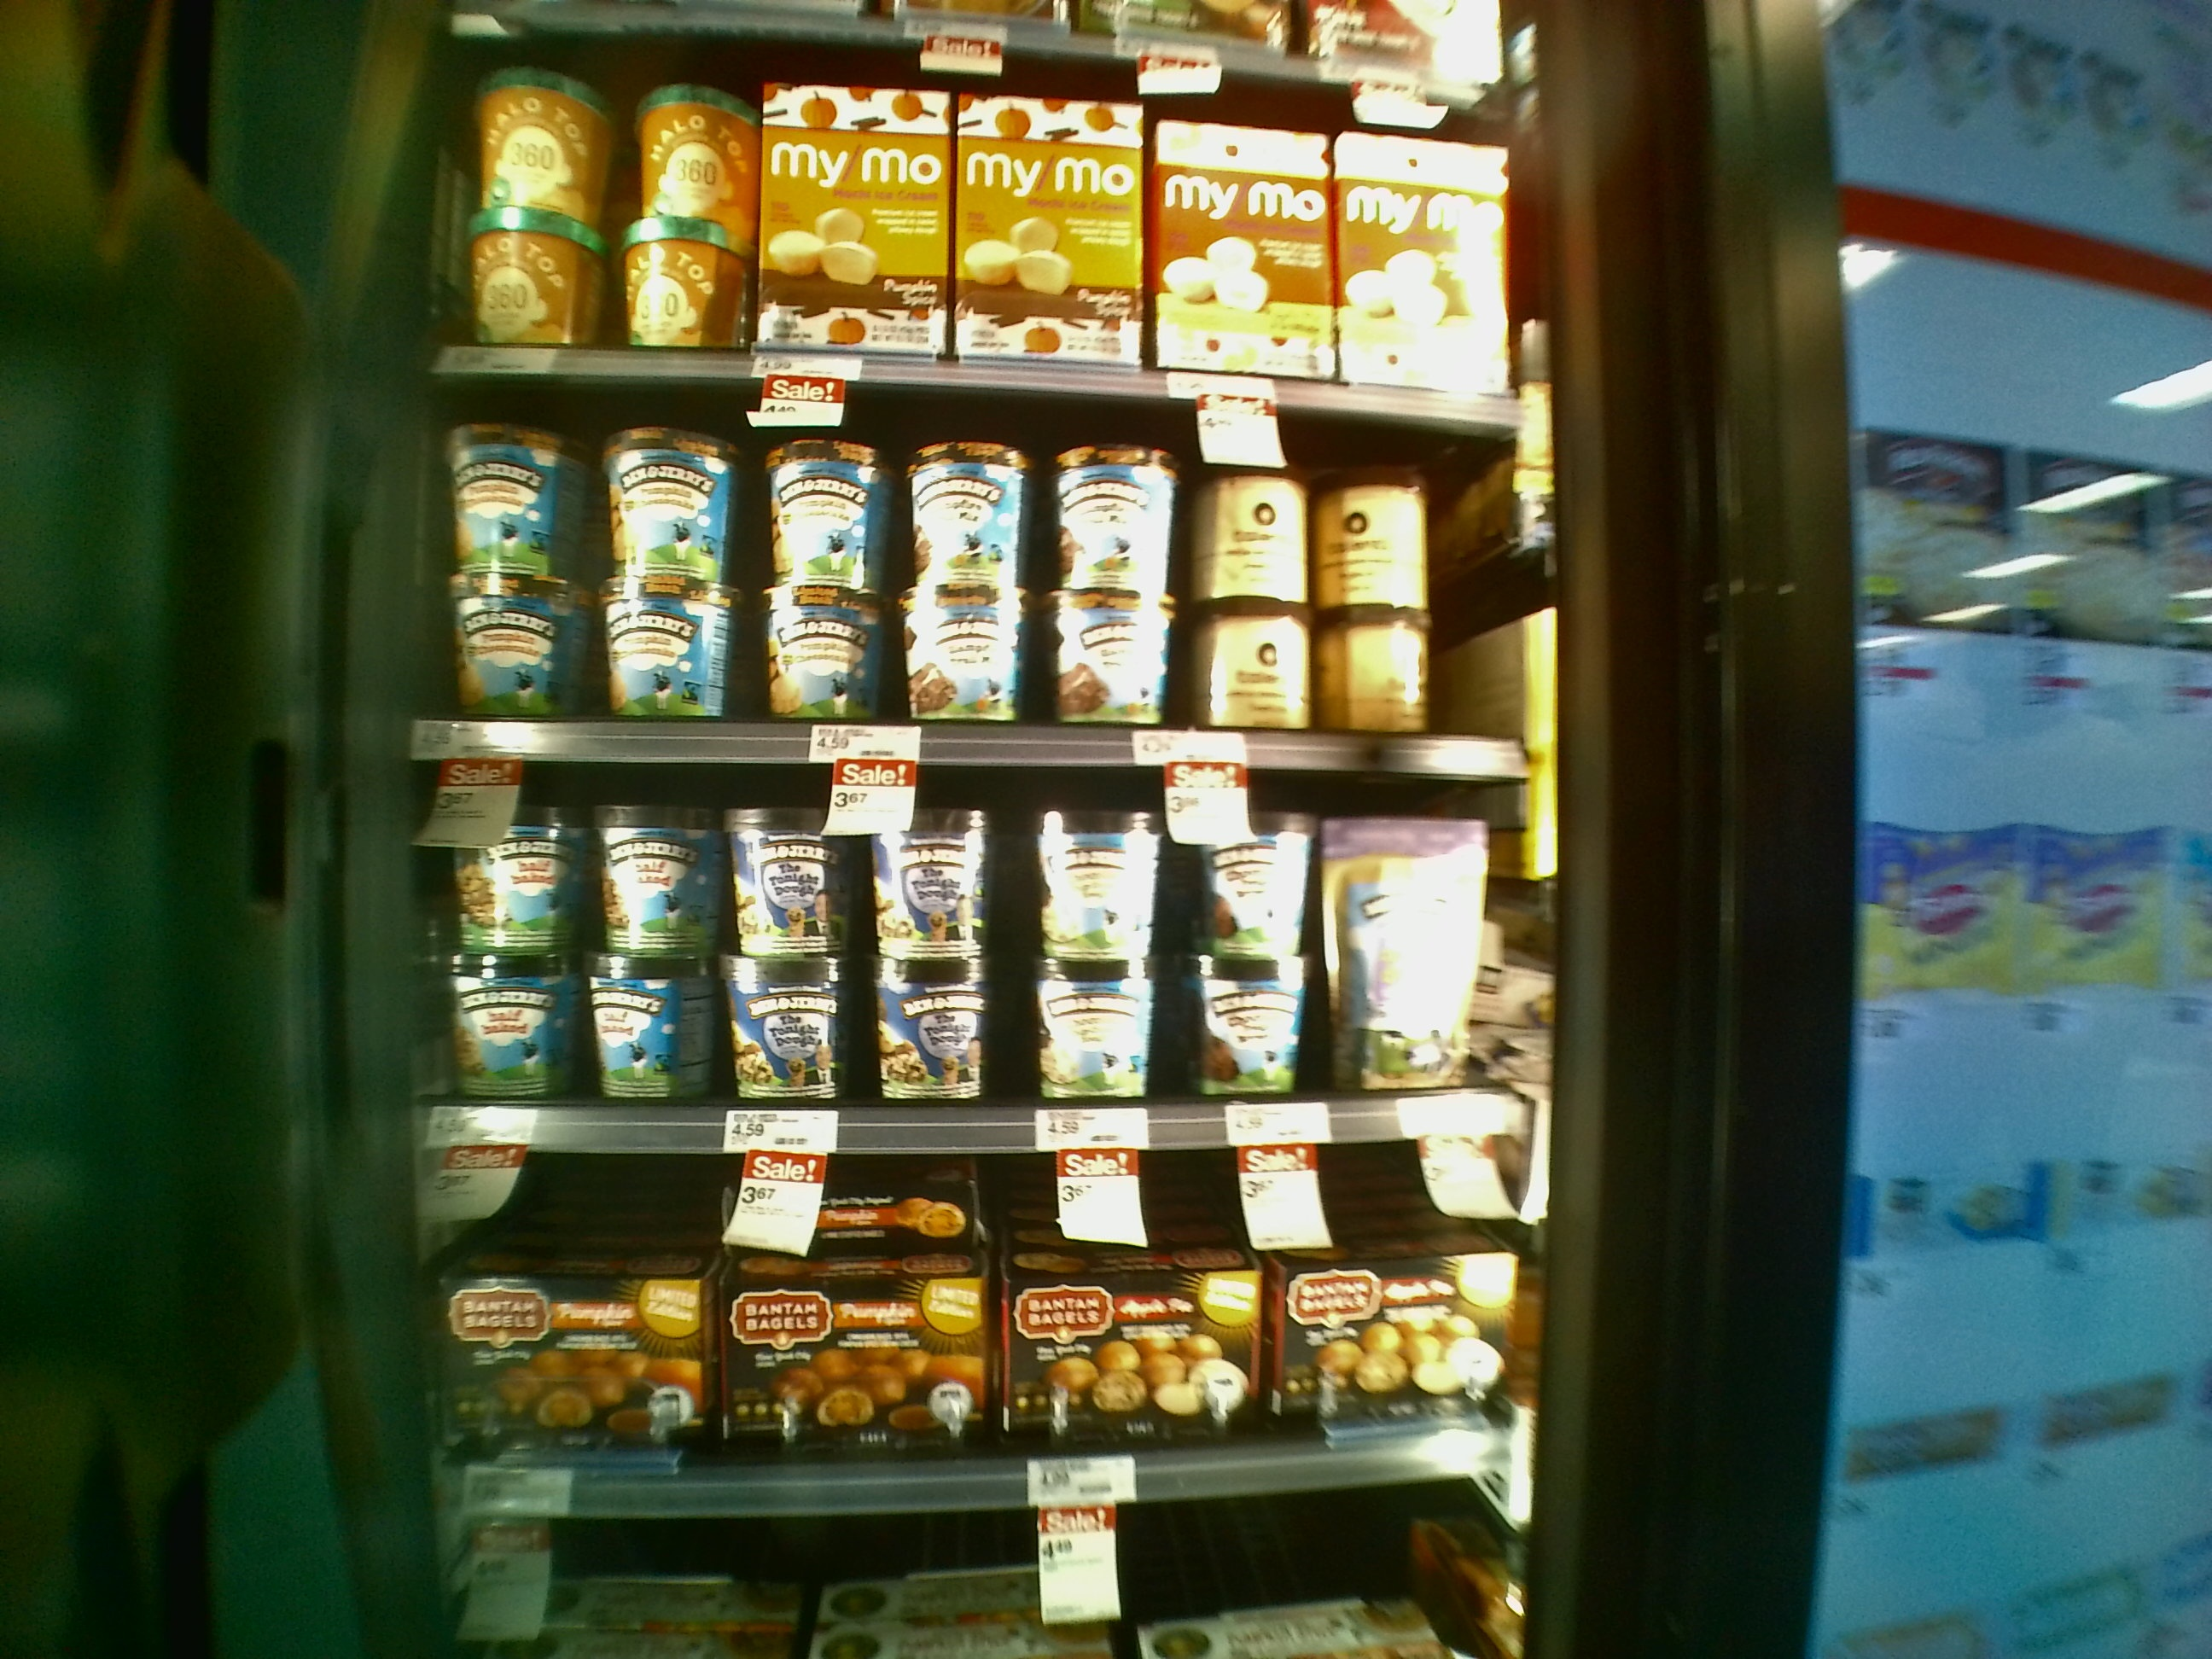shelf: (354, 718, 1540, 1134), (404, 342, 1529, 770), (397, 1129, 1534, 1469)
